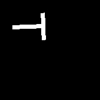half_double_crochet: (13, 13, 45, 39)
